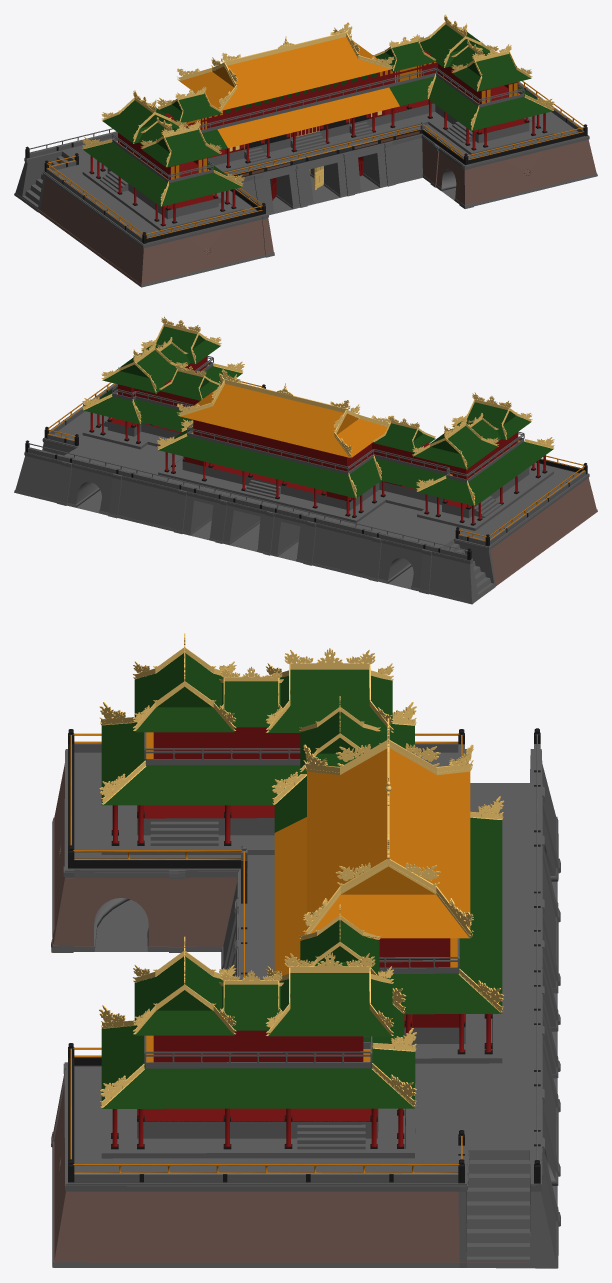
The model's file is ngo-mon.glb.
3 views of the same model, one above another, from view 1: azimuth 30°, elevation 25°; view 2: azimuth 150°, elevation 25°; view 3: azimuth 270°, elevation 25° (orthographic). The views are drawn at different scales.
Visible parts, largest first — view 1: Cube, Cube.031, Cube.042, Cube.086, Cube.002, Cube.001, Cube.115, Cube.032, Cube.012, Cube.124, Cube.241, Cube.264 (+11 smaller); view 2: Cube, Cube.031, Cube.042, Cube.002, Cube.086, Cube.032, Cube.264, Cube.252, Cube.116, Cube.034, Cube.012, Cube.124 (+11 smaller); view 3: Cube, Cube.031, Cube.042, Cube.002, Cube.086, Cube.252, Cube.001, Cube.264, Cube.012, Cube.124, Cube.241, Cube.387 (+17 smaller).
Boxes of the visible parts, bbox=[...] form: Cube: bbox=[14, 112, 597, 287]; Cube.031: bbox=[83, 74, 552, 206]; Cube.042: bbox=[212, 37, 390, 110]; Cube.086: bbox=[118, 50, 518, 179]; Cube.002: bbox=[92, 103, 543, 225]; Cube.001: bbox=[42, 134, 589, 248]; Cube.115: bbox=[47, 81, 584, 238]; Cube.032: bbox=[112, 67, 524, 180]; Cube.012: bbox=[164, 99, 528, 210]; Cube.124: bbox=[142, 130, 220, 167]; Cube.241: bbox=[452, 54, 530, 91]; Cube.264: bbox=[102, 100, 179, 143]; Cube: bbox=[14, 411, 597, 604]; Cube.031: bbox=[83, 364, 553, 506]; Cube.042: bbox=[180, 384, 358, 457]; Cube.002: bbox=[93, 422, 544, 524]; Cube.086: bbox=[118, 356, 518, 479]; Cube.032: bbox=[112, 356, 524, 480]; Cube.264: bbox=[414, 426, 497, 468]; Cube.252: bbox=[102, 350, 186, 393]; Cube.116: bbox=[28, 443, 467, 554]; Cube.034: bbox=[112, 362, 523, 482]; Cube.012: bbox=[108, 418, 471, 509]; Cube.124: bbox=[453, 402, 530, 439]; Cube: bbox=[51, 749, 560, 1268]; Cube.031: bbox=[101, 723, 502, 1108]; Cube.042: bbox=[307, 748, 470, 929]; Cube.002: bbox=[111, 805, 492, 1149]; Cube.086: bbox=[153, 727, 450, 1062]; Cube.252: bbox=[267, 973, 392, 1036]; Cube.001: bbox=[63, 749, 469, 1191]; Cube.264: bbox=[267, 669, 392, 732]; Cube.012: bbox=[137, 805, 465, 1121]; Cube.124: bbox=[134, 653, 234, 732]; Cube.241: bbox=[134, 956, 234, 1035]; Cube.387: bbox=[309, 894, 469, 938].
Bounding box in the file's own units: 4.66 × 1.31 × 2.24.
